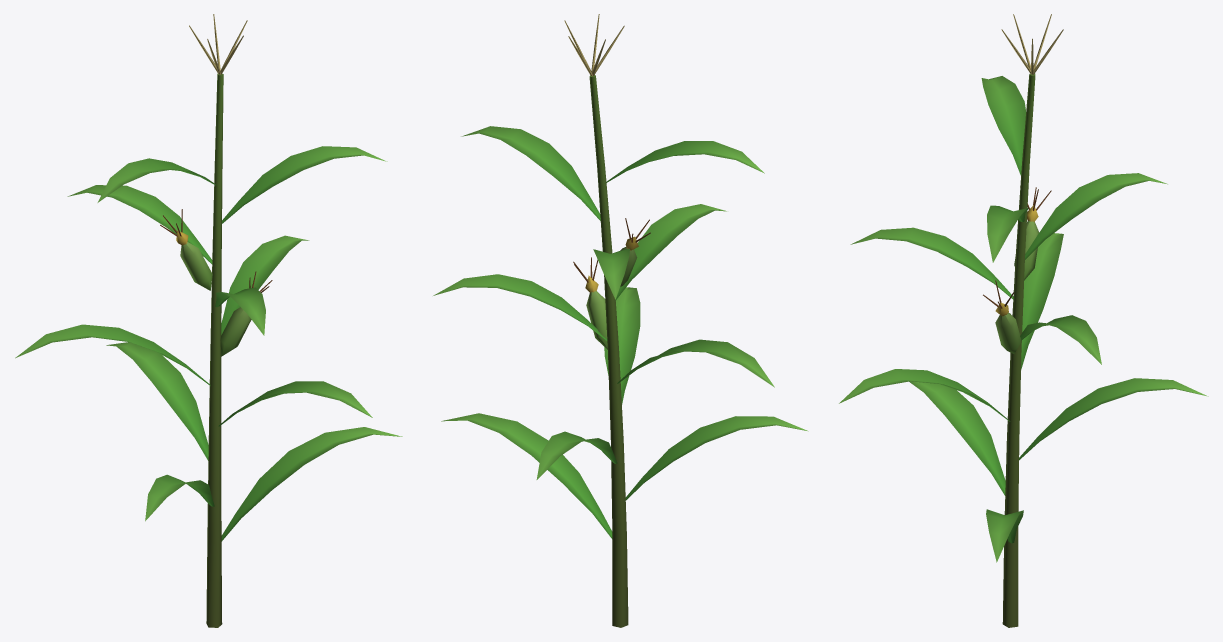
File: jagung_dewasa.glb
3 views of the same model, side by side, from view 1: azimuth 30°, elevation 25°; view 2: azimuth 150°, elevation 25°; view 3: azimuth 270°, elevation 25° (orthographic). The views are drawn at different scales.
Parts seen in each view (by area): view 1: jagung_dewasa; view 2: jagung_dewasa; view 3: jagung_dewasa.
Part boxes in pixels (left/top/right/bottom): jagung_dewasa: left=15, top=14, right=402, bottom=627; jagung_dewasa: left=433, top=14, right=808, bottom=627; jagung_dewasa: left=839, top=14, right=1208, bottom=627.
Size of the model in its own units: 1.5 by 2.34 by 1.29.
